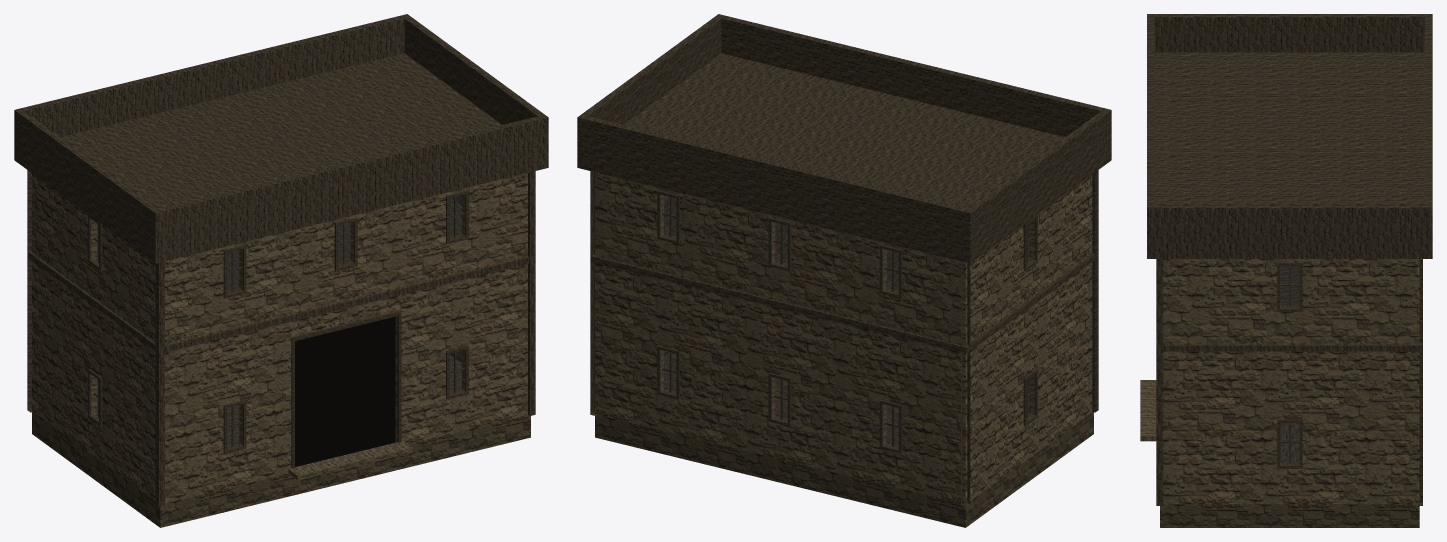
File: dungeon_gate_01.glb
The picture shows the model from 3 angles, left to right: view 1: azimuth 30°, elevation 25°; view 2: azimuth 150°, elevation 25°; view 3: azimuth 270°, elevation 25°; orthographic projection.
Parts seen in each view (by area): view 1: dungeon_gate_01; view 2: dungeon_gate_01; view 3: dungeon_gate_01.
Boxes of the visible parts, x1,y1,x2,y2 form: dungeon_gate_01: (14,14,548,527); dungeon_gate_01: (577,14,1111,527); dungeon_gate_01: (1140,14,1432,527).
Bounding box in the file's own units: 10.6 × 8.3 × 6.75.
6 materials, 5 textured.
